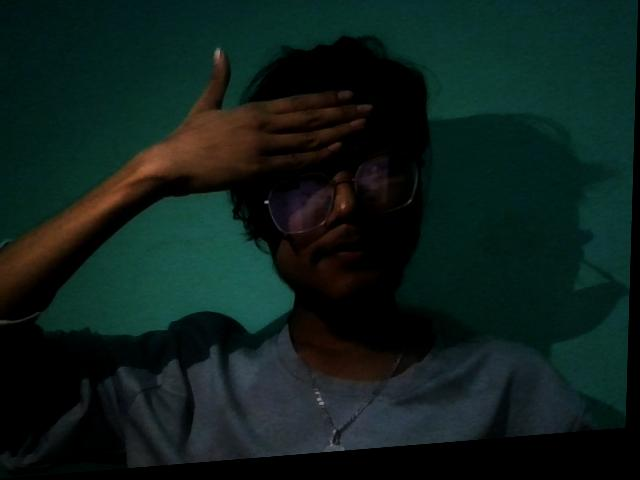forget: (115, 27, 395, 210)
